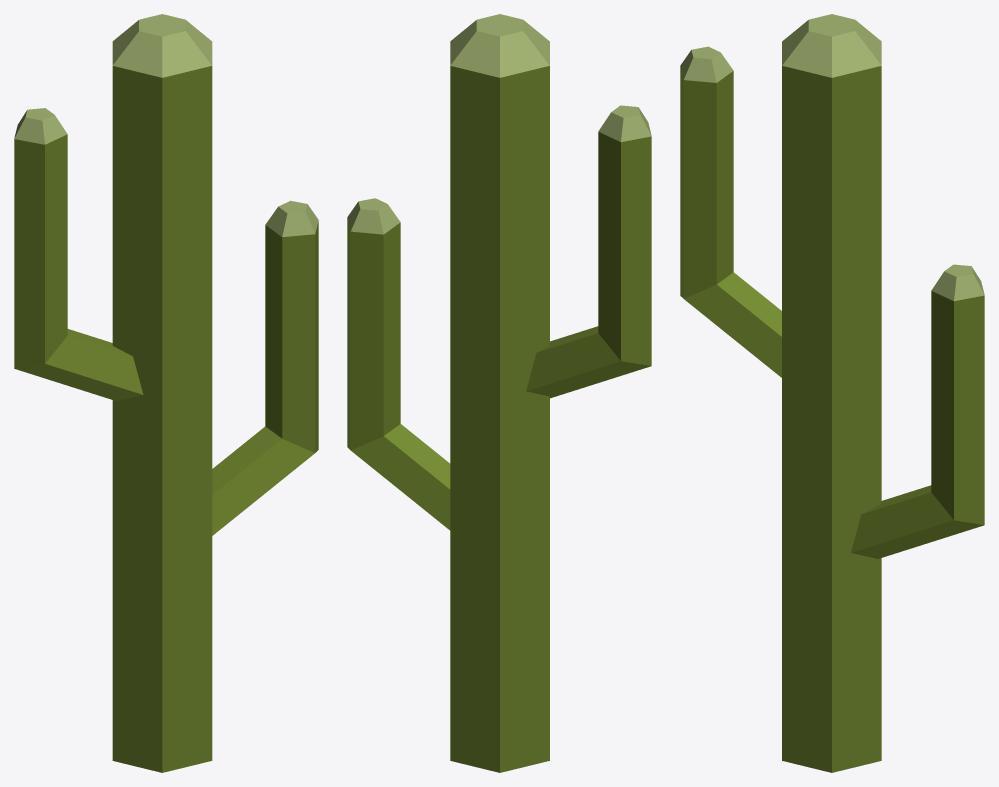
File: TB_D_Env_CactusC_A.FBX
3 renders of one model, left to right at view 1: azimuth 30°, elevation 25°; view 2: azimuth 150°, elevation 25°; view 3: azimuth 330°, elevation 25°, orthographic.
Visible parts, largest first — view 1: TB_D_Env_CactusC_A; view 2: TB_D_Env_CactusC_A; view 3: TB_D_Env_CactusC_A.
Boxes of the visible parts, x1=… form: TB_D_Env_CactusC_A: x1=14, y1=14, x2=318, y2=772; TB_D_Env_CactusC_A: x1=347, y1=14, x2=651, y2=772; TB_D_Env_CactusC_A: x1=680, y1=14, x2=984, y2=772.
Bounding box in the file's own units: 1.83 × 4.16 × 0.5196.
